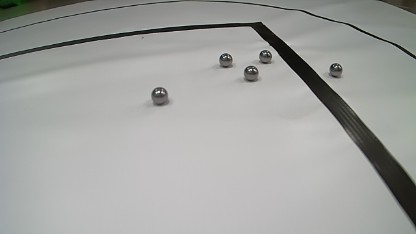ironball: (151, 87, 168, 104), (244, 65, 258, 81), (329, 63, 342, 77), (219, 53, 232, 67), (259, 50, 272, 63)
